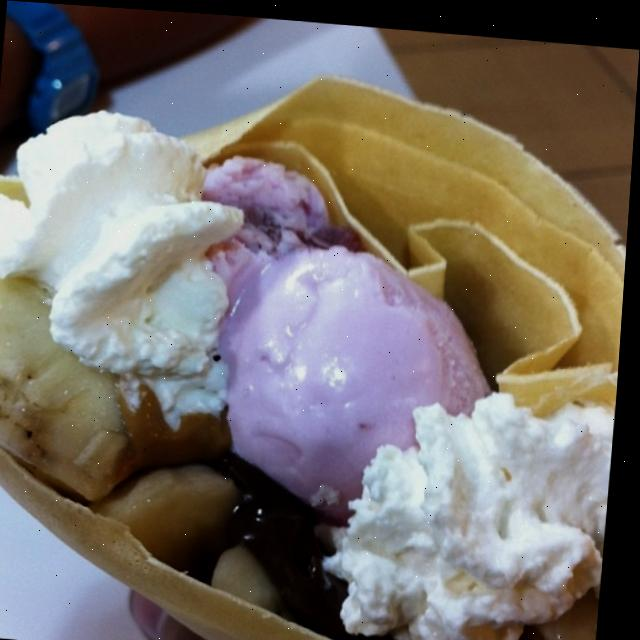蛋糕甜品: (0, 45, 638, 640)
